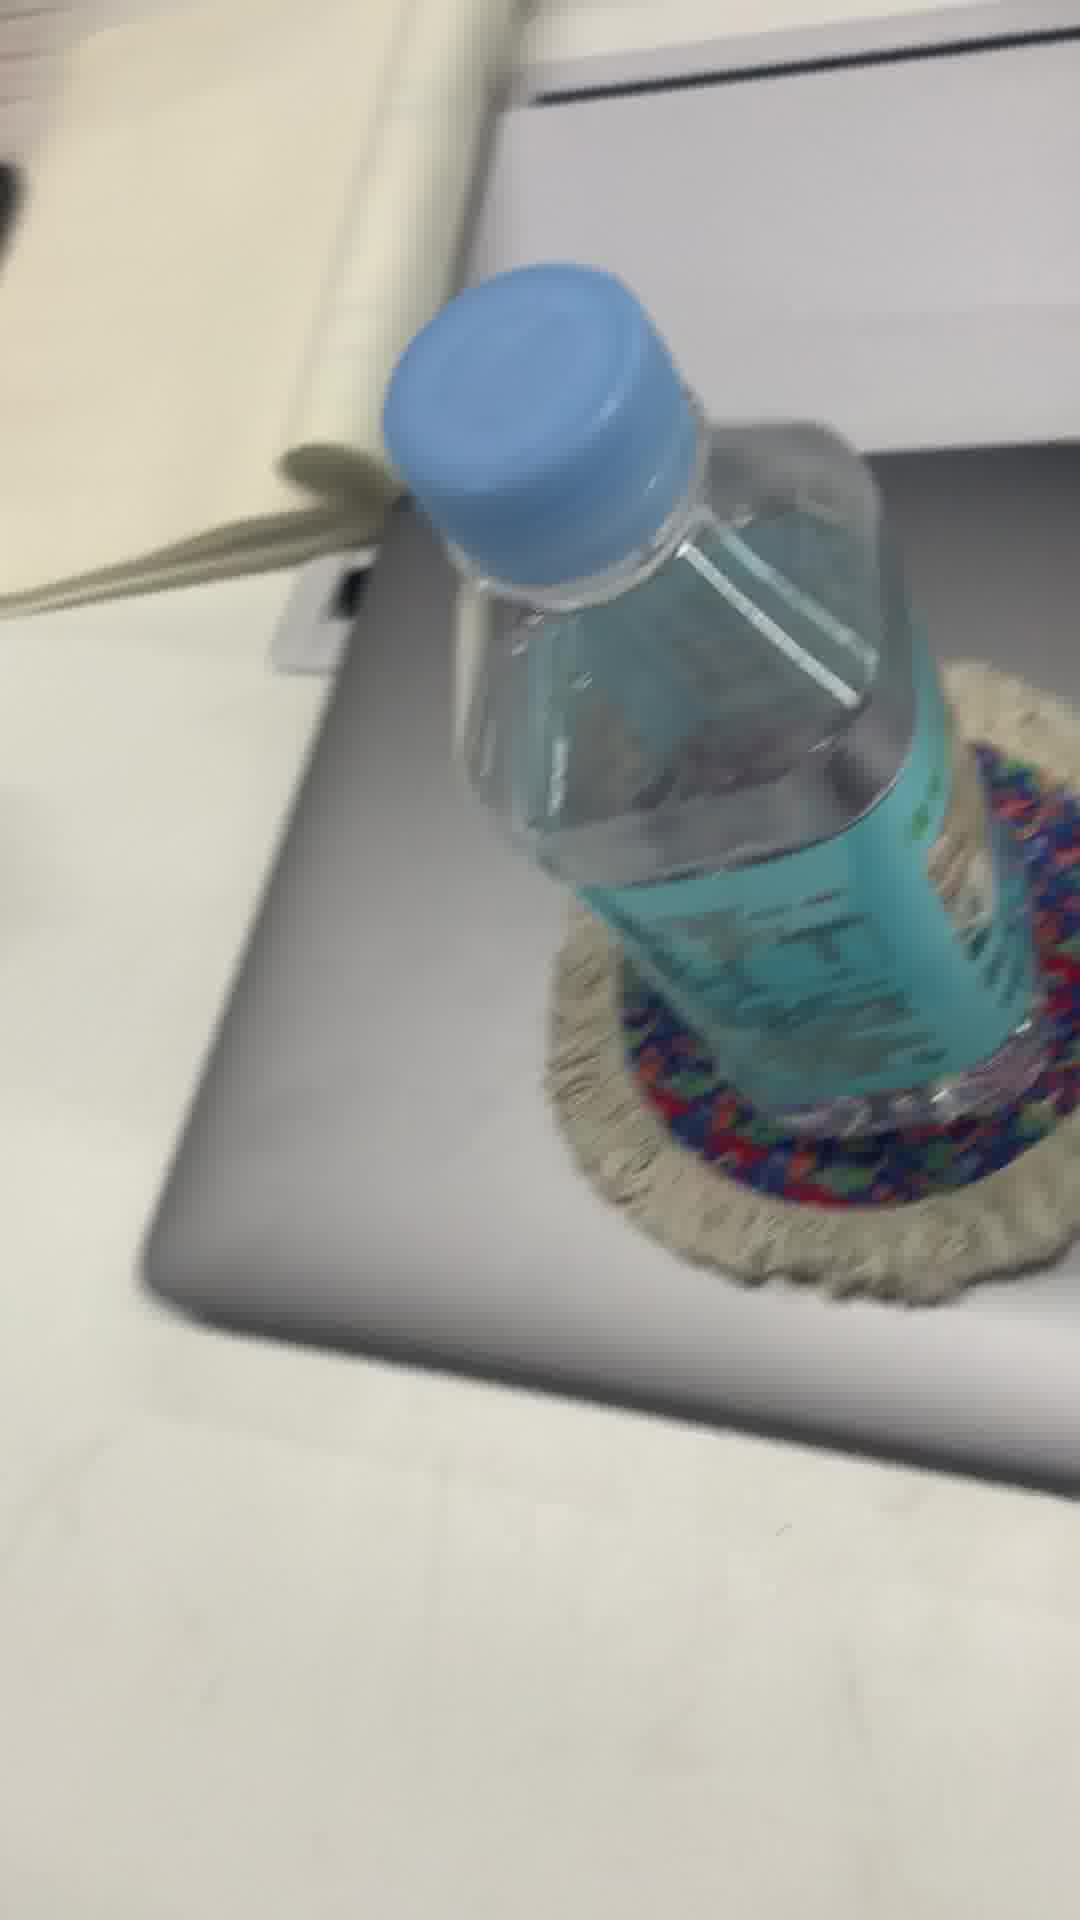水瓶: (378, 265, 1059, 1146)
